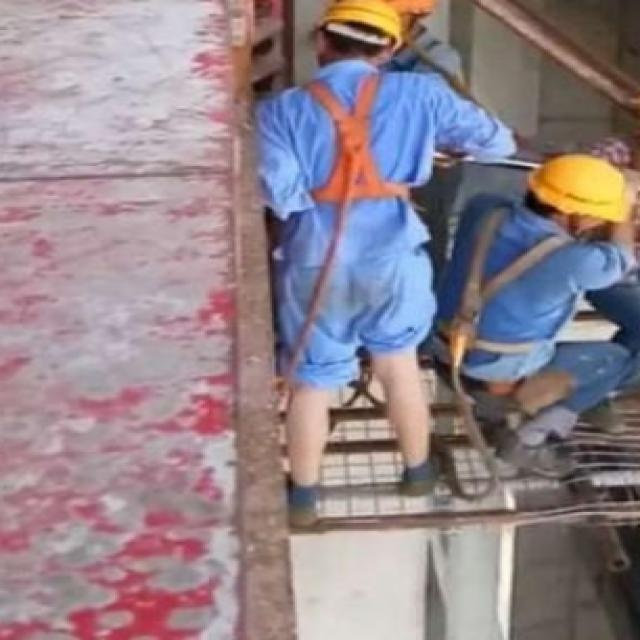Arnes_seguridad: (435, 193, 581, 359), (283, 65, 419, 207)
